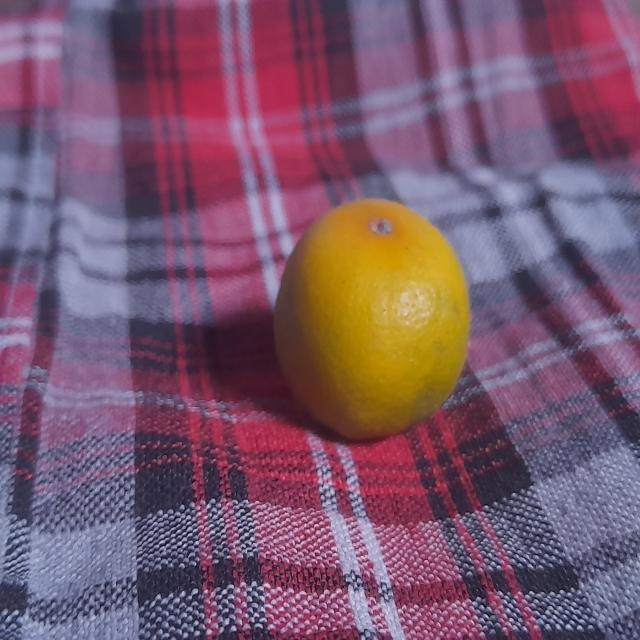greening: (273, 197, 476, 440)
